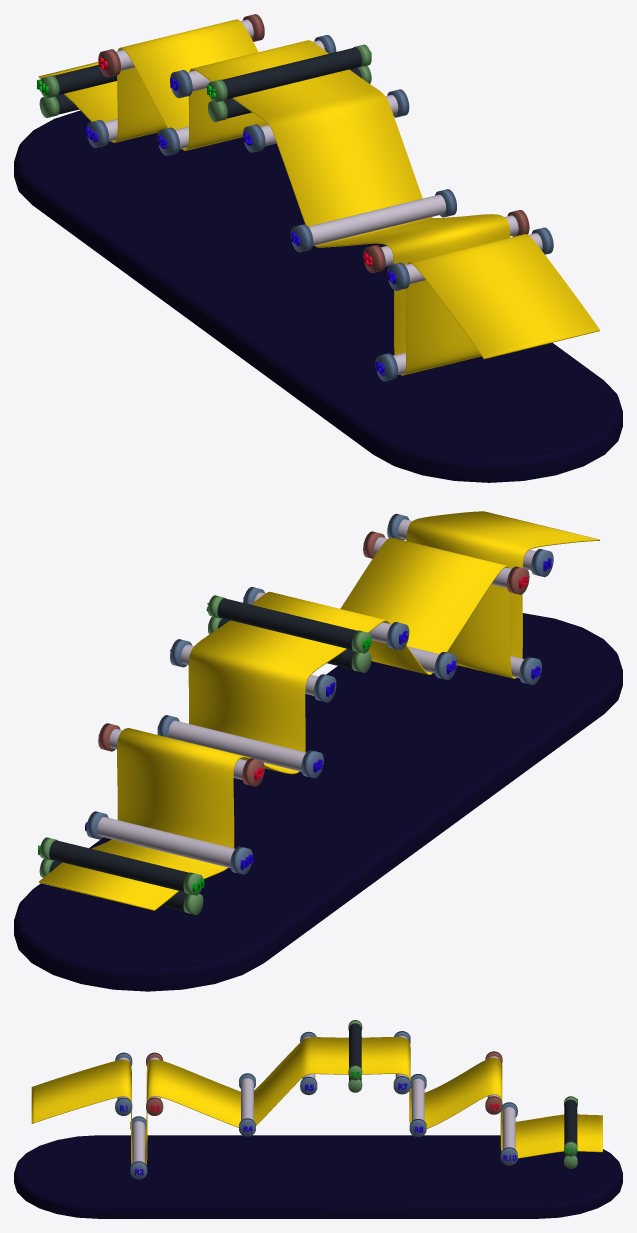
The model's file is rollerTwin.gltf.
3 renders of one model, top to bottom at view 1: azimuth 30°, elevation 25°; view 2: azimuth 150°, elevation 25°; view 3: azimuth 270°, elevation 25°, orthographic. The views are drawn at different scales.
Parts seen in each view (by area): view 1: Cube, Fabric, RollerR6, RollerR4, RollerR11; view 2: Cube, Fabric, RollerR11, RollerR6, RollerR10, RollerR8; view 3: Cube, Fabric, RollerR11, RollerR2, RollerR10, RollerR8, RollerR6, RollerR4.
Part boxes in pixels (left/top/right/bottom): Cube: left=14, top=110, right=622, bottom=482; Fabric: left=38, top=19, right=599, bottom=375; RollerR6: left=222, top=47, right=361, bottom=98; RollerR4: left=308, top=194, right=446, bottom=245; RollerR11: left=54, top=64, right=116, bottom=94; Cube: left=14, top=613, right=622, bottom=991; Fabric: left=38, top=511, right=599, bottom=910; RollerR11: left=49, top=840, right=188, bottom=891; RollerR6: left=217, top=598, right=357, bottom=649; RollerR10: left=97, top=817, right=234, bottom=867; RollerR8: left=168, top=720, right=306, bottom=771; Cube: left=14, top=1135, right=622, bottom=1218; Fabric: left=31, top=1037, right=602, bottom=1165; RollerR11: left=564, top=1099, right=577, bottom=1144; RollerR2: left=132, top=1121, right=145, bottom=1163; RollerR10: left=502, top=1107, right=515, bottom=1149; RollerR8: left=411, top=1078, right=424, bottom=1120; RollerR6: left=349, top=1023, right=361, bottom=1068; RollerR4: left=241, top=1078, right=253, bottom=1120.
Size of the model in its own units: 2 by 1.78 by 7.1.
Materials: 10 (1 with a texture image).
